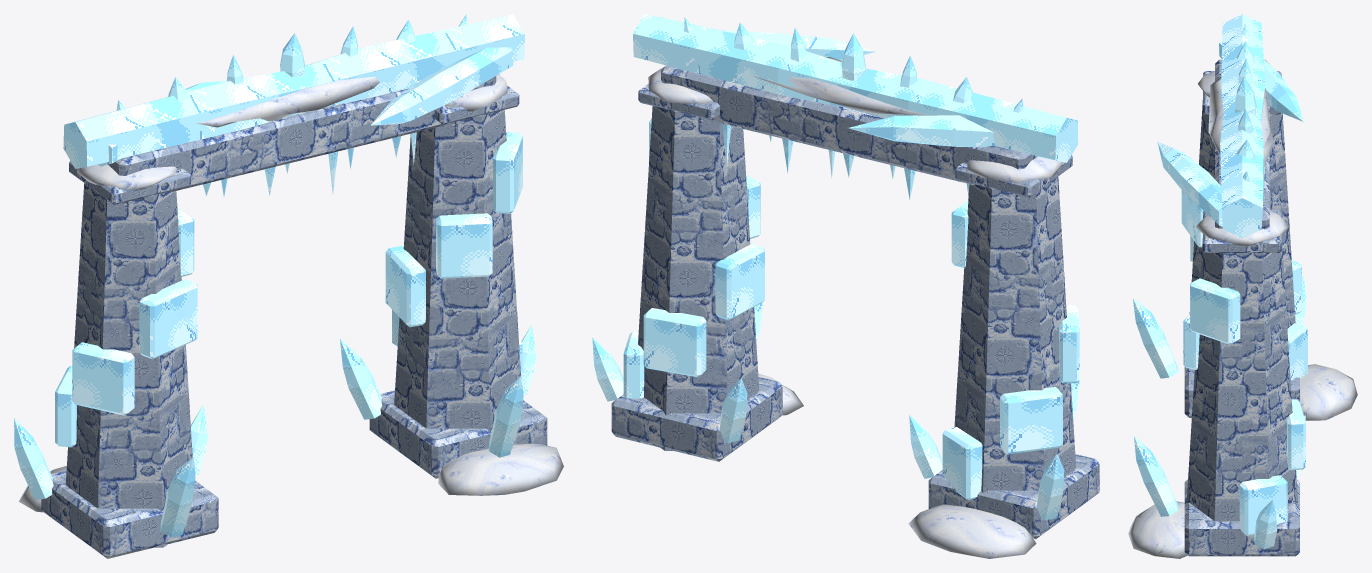
Rendered from frost_gate.glb.
3 views of the same model, side by side, from view 1: azimuth 30°, elevation 25°; view 2: azimuth 150°, elevation 25°; view 3: azimuth 270°, elevation 25° (orthographic). The views are drawn at different scales.
Visible parts, largest first — view 1: Post1, Post-1, Crystals, Ice, Ice.001, Beam, Snow, Foot-1, Foot1, Cap-1, Cap1, Icicles; view 2: Post-1, Post1, Crystals, Ice.001, Beam, Ice, Snow, Foot1, Foot-1, Cap-1, Cap1, Icicles; view 3: Post1, Crystals, Ice.001, Snow, Ice, Foot1, Post-1, Cap1, Beam, Foot-1.
Boxes of the visible parts, x1,y1,x2,y2 form: Post1: (394, 110, 521, 430); Post-1: (65, 183, 192, 547); Crystals: (63, 14, 524, 168); Ice: (14, 207, 207, 537); Ice.001: (340, 132, 536, 457); Beam: (108, 76, 496, 191); Snow: (19, 74, 563, 512); Foot-1: (41, 470, 218, 558); Foot1: (369, 390, 547, 478); Cap-1: (69, 161, 190, 204); Cap1: (434, 85, 519, 124); Icicles: (202, 132, 416, 196); Post-1: (954, 177, 1076, 492); Post1: (638, 106, 759, 450); Crystals: (633, 14, 1078, 162); Ice.001: (592, 119, 764, 443); Beam: (661, 65, 1037, 184); Ice: (909, 200, 1079, 520); Snow: (648, 57, 1063, 558); Foot1: (611, 376, 782, 461); Foot-1: (928, 454, 1099, 539); Cap-1: (955, 155, 1072, 197); Cap1: (638, 84, 719, 120); Icicles: (722, 124, 969, 199); Post1: (1186, 237, 1297, 521); Crystals: (1157, 14, 1303, 238); Ice.001: (1134, 278, 1305, 549); Snow: (1128, 71, 1357, 558); Ice: (1133, 190, 1307, 381); Foot1: (1184, 479, 1299, 556); Post-1: (1189, 100, 1295, 328); Cap1: (1203, 209, 1281, 252); Beam: (1215, 59, 1269, 229); Foot-1: (1184, 367, 1299, 417).
Size of the model in its own units: 8.28 by 7.06 by 3.78.
Materials: 3 (3 with a texture image).
